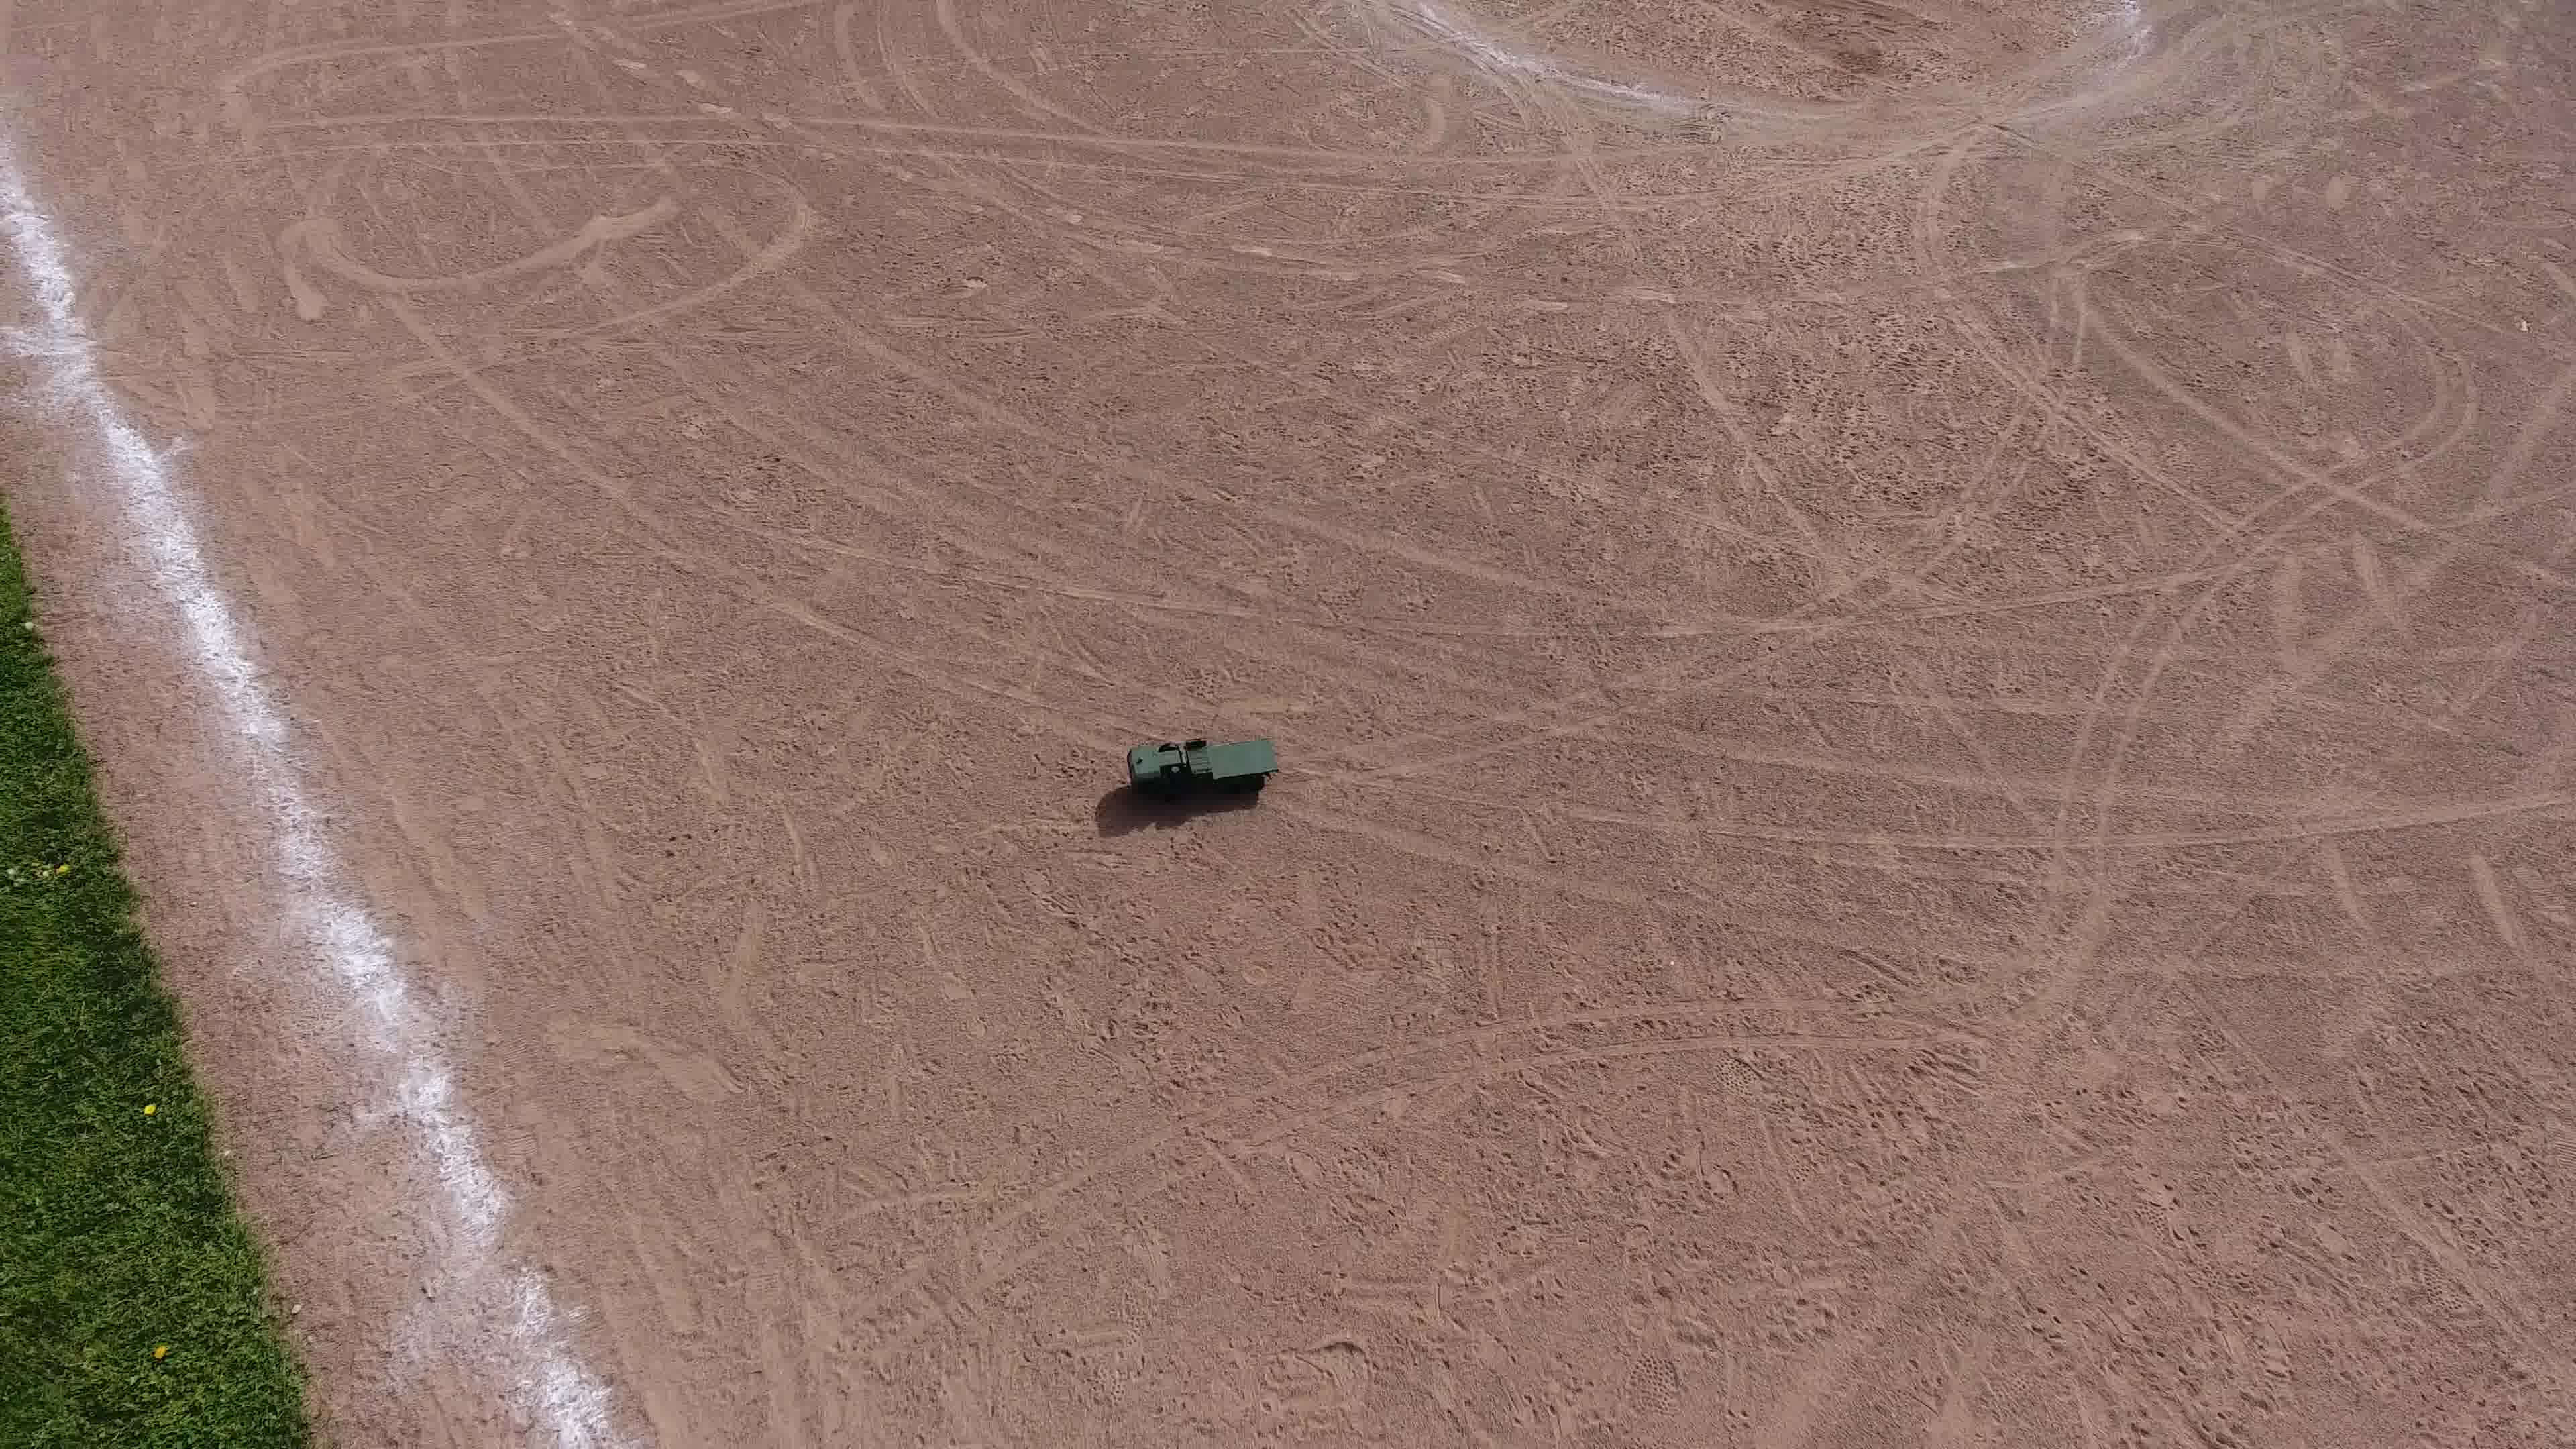transporter9: (1122, 727, 1284, 807)
